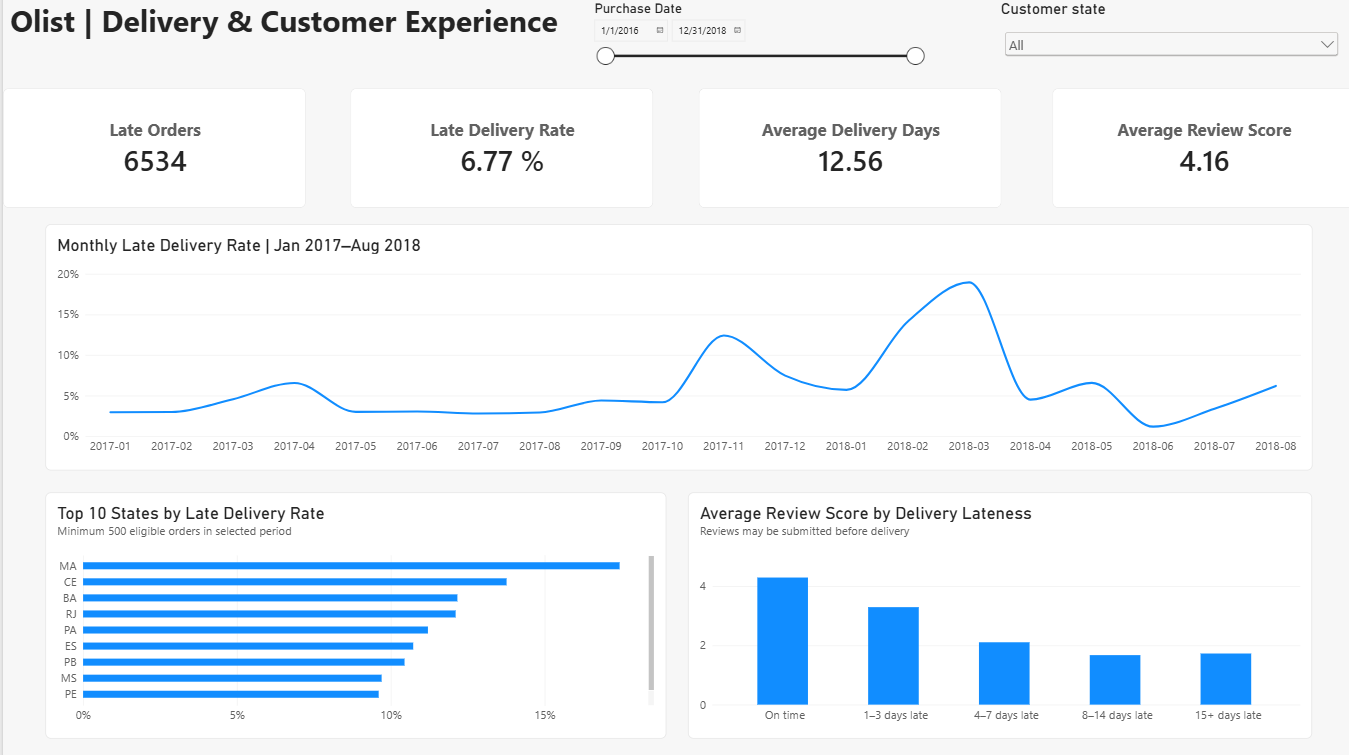

The page's visual inventory and layout, read from the dashboard file:
{"tool":"powerbi","page":{"name":"Delivery and Customer Experience","canvas":[1920,1080],"ordinal":1},"visuals":[{"type":"textbox","box":[10.4,0,788,77.5],"z":0},{"type":"slicer","fields":{"Values":["Dates.date"]},"box":[832.6,0,479.6,144.5],"z":1000},{"type":"slicer","title":"Customer state","fields":{"Values":["States.customer_state"]},"box":[1418,0,484.1,104.3],"z":2000},{"type":"cardVisual","fields":{"Data":["Orders.Late Orders"]},"box":[0,125.3,430,170],"z":2001},{"type":"cardVisual","fields":{"Data":["Orders.Late Delivery Rate"]},"box":[493.4,125.3,430,170],"z":2002},{"type":"cardVisual","fields":{"Data":["Orders.Average Delivery Days"]},"box":[988.1,125.3,430,170],"z":2003},{"type":"cardVisual","fields":{"Data":["Orders.Average Review Score"]},"box":[1490.5,125.3,430,170],"z":2004},{"type":"lineChart","title":"Monthly Late Delivery Rate | Jan 2017–Aug 2018","fields":{"Category":["Dates.year_month"],"Y":["Orders.Late Delivery Rate"]},"box":[60.1,318.3,1800,350],"z":2005},{"type":"clusteredBarChart","title":"Top 10 States by Late Delivery Rate","fields":{"Category":["States.customer_state"],"Y":["Orders.Late Delivery Rate"]},"box":[60.1,699.2,881.8,350],"z":2006},{"type":"clusteredColumnChart","title":"Average Review Score by Delivery Lateness","fields":{"Category":["Orders.lateness_band"],"Y":["Orders.Average Review Score"]},"box":[972.8,699.2,887.1,350.3],"z":2007}]}

Visuals, with their boxes in screenshot pixels (x1, y1, x2, y2), scaled from the page's 1920x1080 canvas onto the 1349x755 screenshot:
textbox: [7, 0, 561, 54]
slicer - Dates.date: [585, 0, 922, 101]
"Customer state" slicer: [996, 0, 1336, 73]
cardVisual - Orders.Late Orders: [0, 88, 302, 206]
cardVisual - Orders.Late Delivery Rate: [347, 88, 649, 206]
cardVisual - Orders.Average Delivery Days: [694, 88, 996, 206]
cardVisual - Orders.Average Review Score: [1047, 88, 1348, 206]
"Monthly Late Delivery Rate | Jan 2017–Aug 2018" lineChart: [42, 223, 1307, 467]
"Top 10 States by Late Delivery Rate" clusteredBarChart: [42, 489, 662, 733]
"Average Review Score by Delivery Lateness" clusteredColumnChart: [683, 489, 1307, 734]
